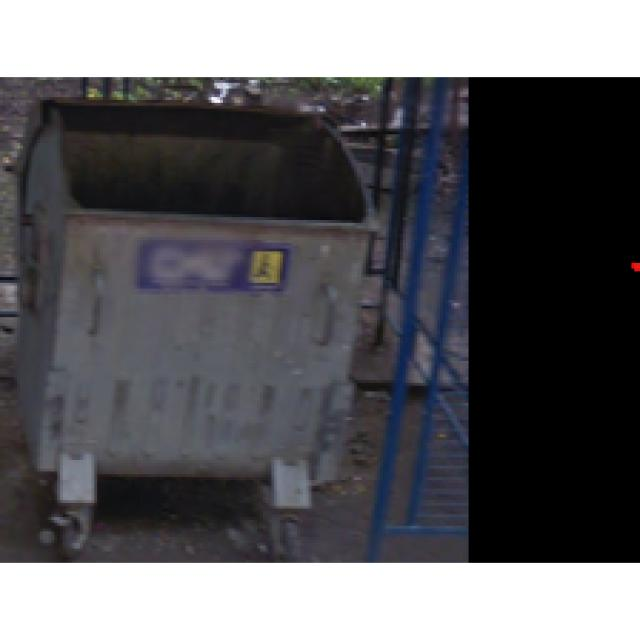general wastetrash bin: (9, 89, 361, 554)
